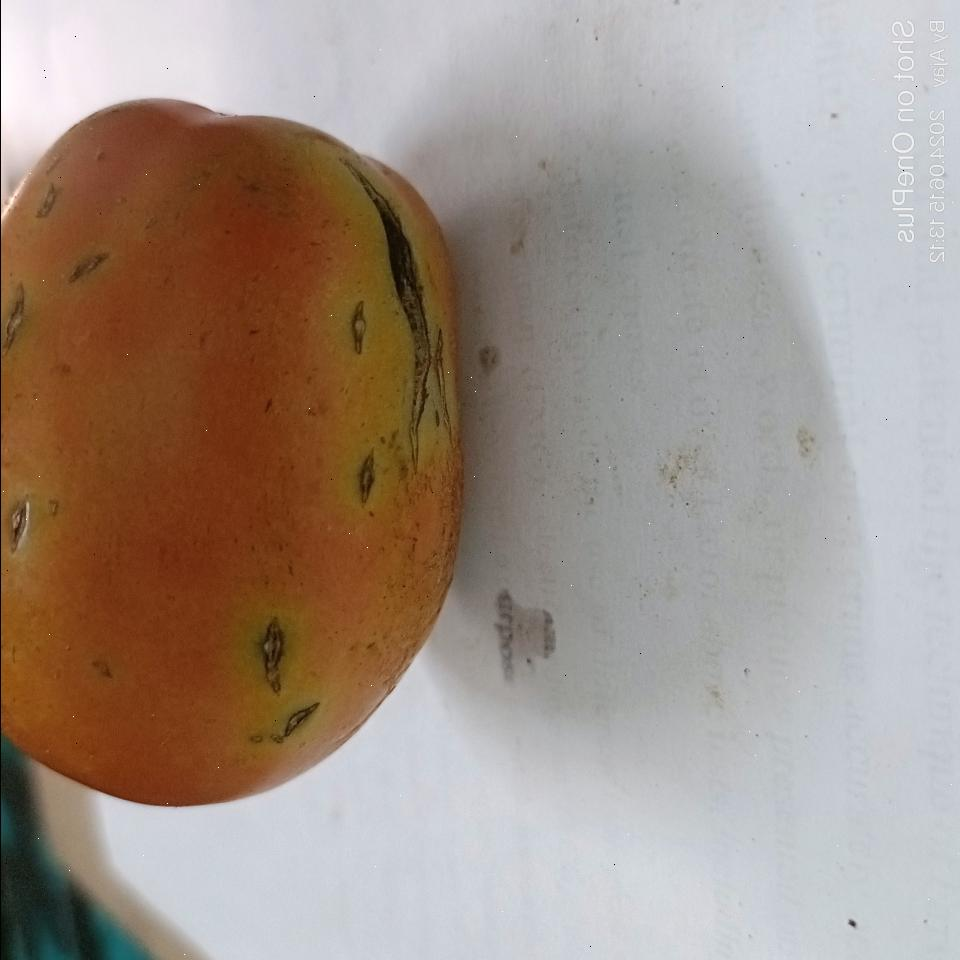Bacterial_Spot: (250, 702, 320, 757), (254, 619, 288, 695), (0, 287, 30, 369), (2, 489, 36, 558), (58, 250, 110, 292), (349, 453, 379, 505), (24, 178, 54, 222), (345, 304, 367, 350)
